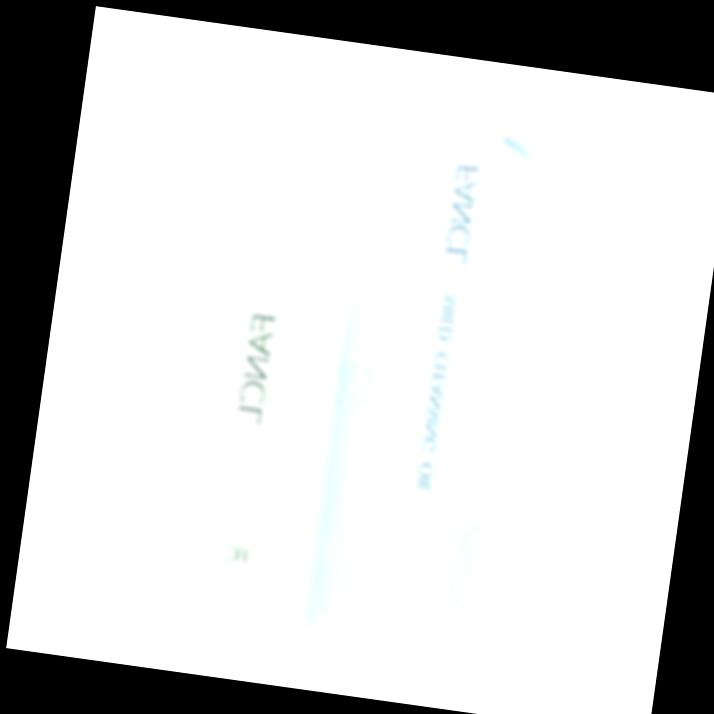cosmetic: (153, 118, 363, 618)
